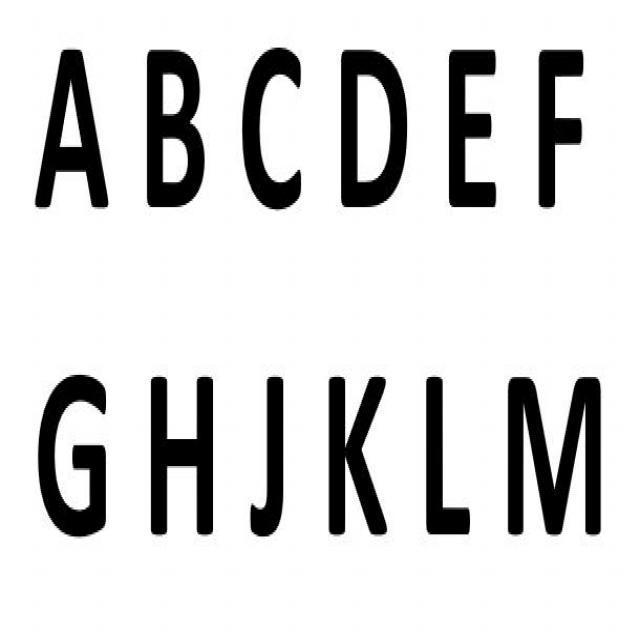A: (29, 42, 112, 216)
B: (132, 38, 218, 218)
C: (233, 38, 316, 219)
D: (333, 36, 408, 220)
E: (433, 37, 508, 218)
F: (529, 38, 591, 215)
G: (33, 370, 116, 544)
H: (141, 366, 223, 543)
J: (246, 362, 298, 550)
K: (310, 360, 398, 547), (413, 364, 483, 546)
M: (496, 360, 612, 547)
